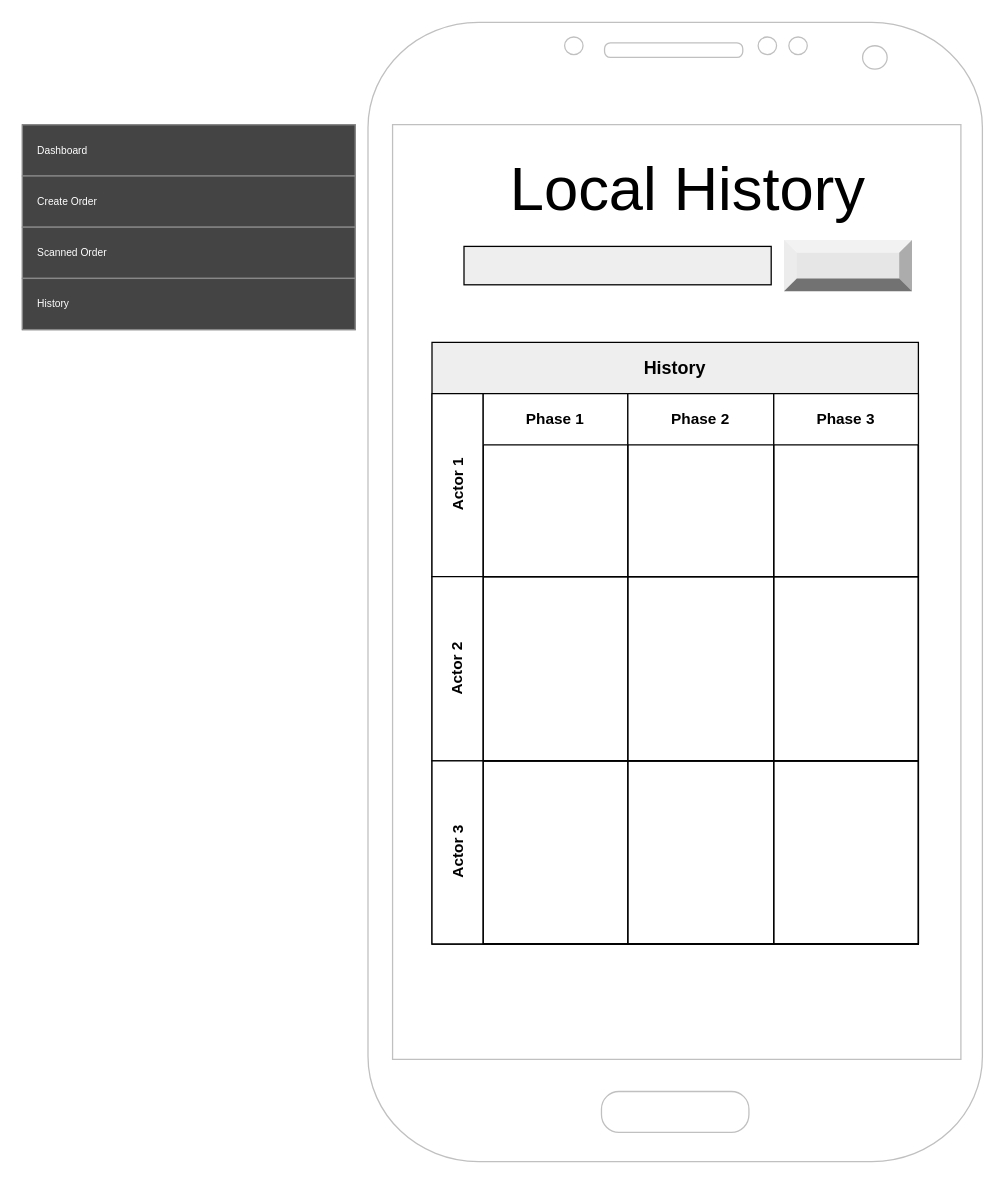
Image size: 1005x1184. Some labels were removed from this diagram. Here are the shapes that lost their labels. From the top down, the centre of each, then its label:
point 617,265: Search date, order ID, contents, userID
point 847,265: Search
